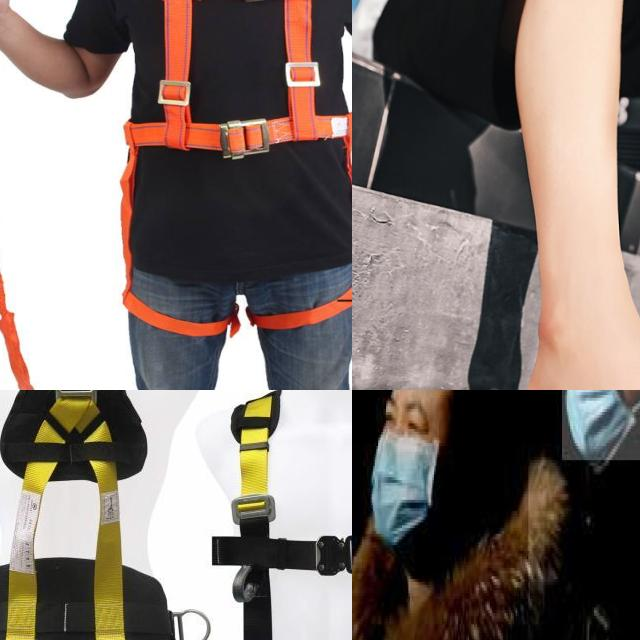Harness: (85, 0, 293, 390), (0, 390, 172, 640), (228, 391, 352, 640)
face_mask: (368, 390, 445, 542), (562, 390, 640, 462)
person: (352, 390, 530, 640), (544, 390, 640, 640)
